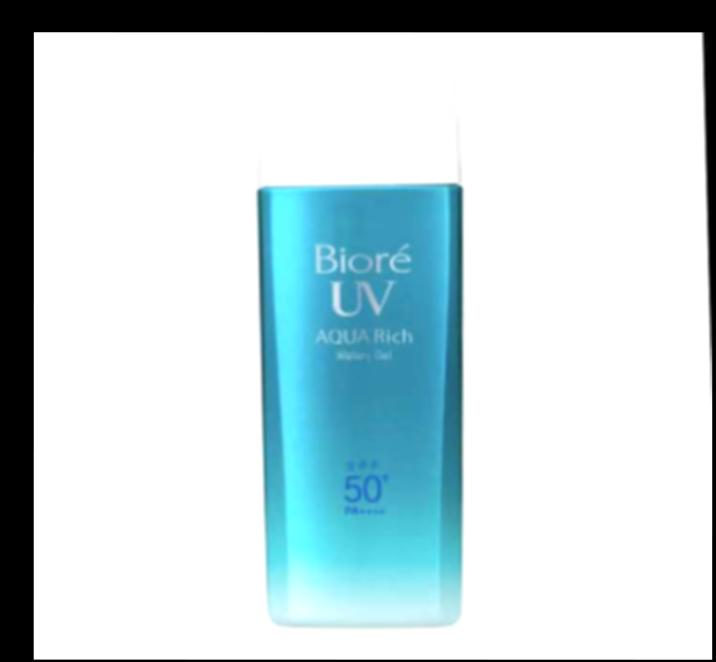cosmetic: (245, 52, 472, 629)
